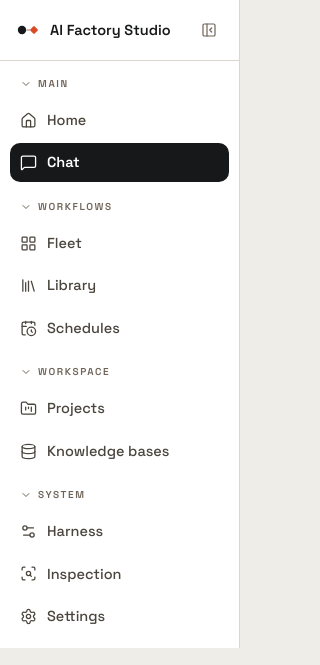
Scenario: Sidebar › carries a visible open or closed mark on the group heading, not aria-expanded alone
The width and height of the screenshot is (320, 665).
Click the button "Workflows" at (120,207), box 10,196 -> 229,218
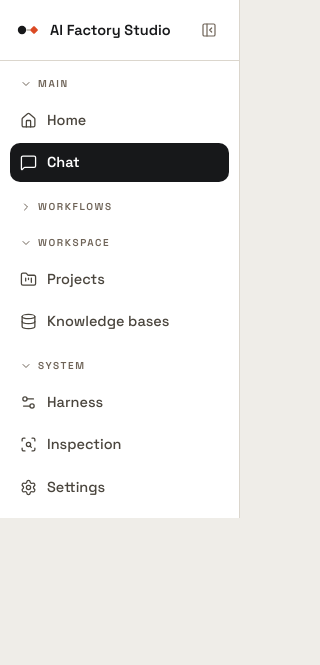
Now the button "Workflows" is collapsed, box 10,196 -> 229,218
